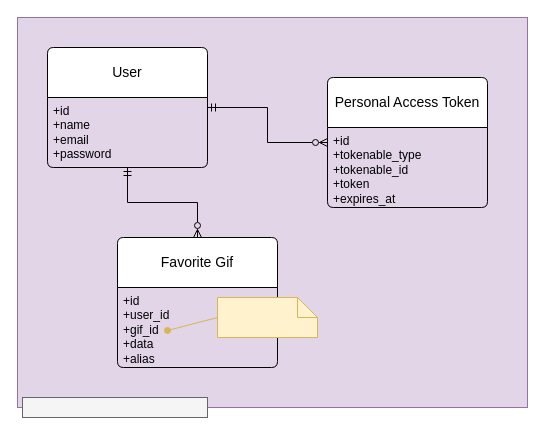
Some shapes in this 545 by 435 pixel diagram are drawn without their labels. The shapes that lost their labels are listed below. From the top down, each one's centre as x and y in pixels, then its label:
At pixel 267 317: "Giphy API ID".
At pixel 115 407: "entity relationship diagram".
